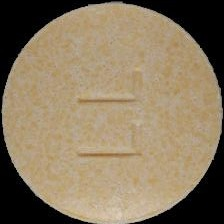10544-564: (0, 0, 224, 224)
